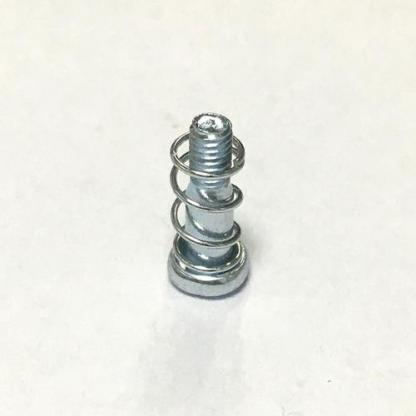FOD: (169, 124, 249, 279)
